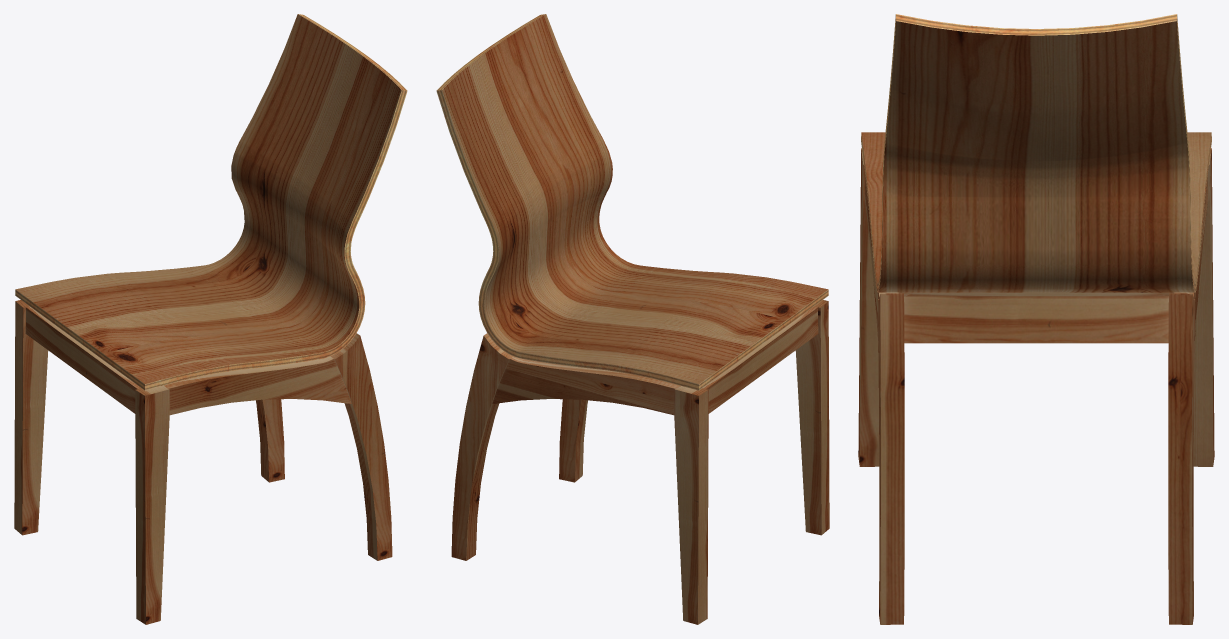
File: modern_chair.glb
The picture shows the model from 3 angles, left to right: view 1: azimuth 30°, elevation 25°; view 2: azimuth 150°, elevation 25°; view 3: azimuth 270°, elevation 25°; orthographic projection. The views are drawn at different scales.
Parts seen in each view (by area): view 1: Object_2; view 2: Object_2; view 3: Object_2.
Boxes of the visible parts, left/top/right/bottom form: Object_2: left=14, top=14, right=407, bottom=624; Object_2: left=436, top=14, right=829, bottom=624; Object_2: left=858, top=14, right=1214, bottom=624.
Bounding box in the file's own units: 22.21 × 33.88 × 17.61.
Materials: 1 (1 with a texture image).
